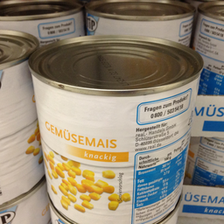corn: (26, 33, 206, 224)
